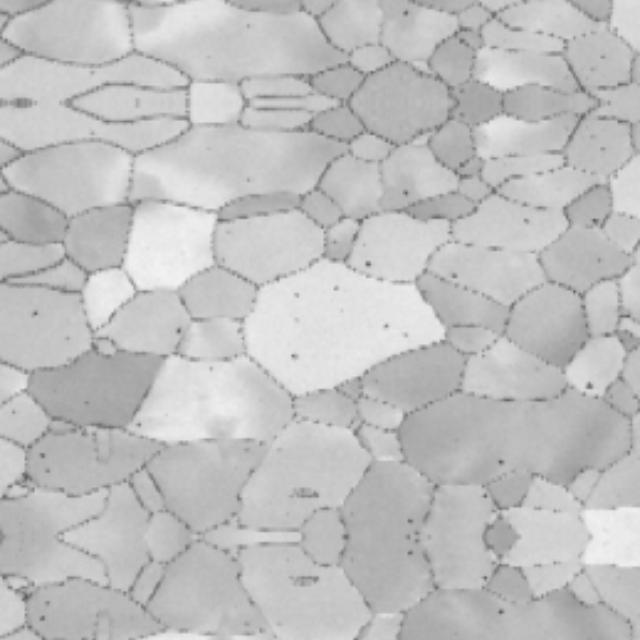good_void: (172, 325, 183, 340), (382, 320, 393, 334), (37, 450, 49, 462), (37, 614, 49, 626), (332, 284, 343, 297), (286, 354, 300, 364), (584, 381, 593, 395), (31, 308, 40, 322), (293, 288, 301, 302), (402, 190, 412, 200), (402, 6, 412, 16), (365, 258, 373, 268), (499, 459, 506, 470), (499, 606, 506, 617), (403, 329, 409, 341), (207, 366, 216, 374), (522, 217, 529, 227), (479, 493, 487, 501), (135, 420, 143, 428), (451, 274, 459, 282), (479, 575, 487, 583), (591, 219, 600, 226)
